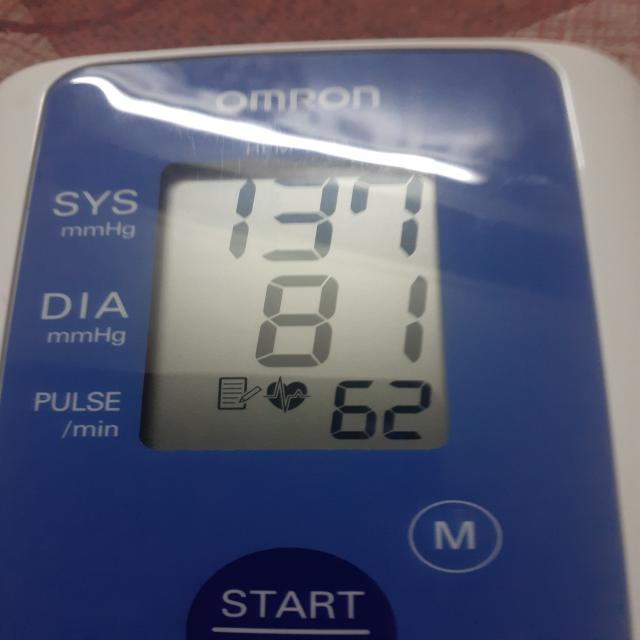display: (130, 147, 461, 458)
frame: (226, 169, 429, 263), (253, 273, 435, 369), (326, 378, 433, 443)
gauge: (0, 32, 640, 640)
